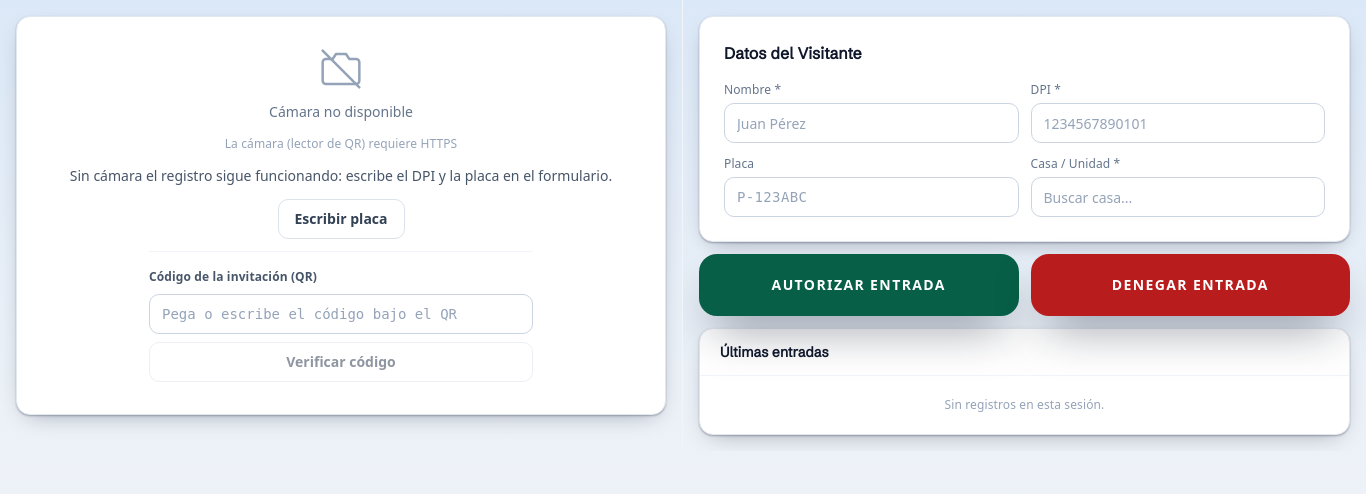
it: GaritaPage web sin cámara › un código con mal formato no llega al servidor y explica el problema
In the field labelled "Código de la invitación (QR)": (341, 314) left=149, top=294, right=533, bottom=334, type "no-es-un-codigo"
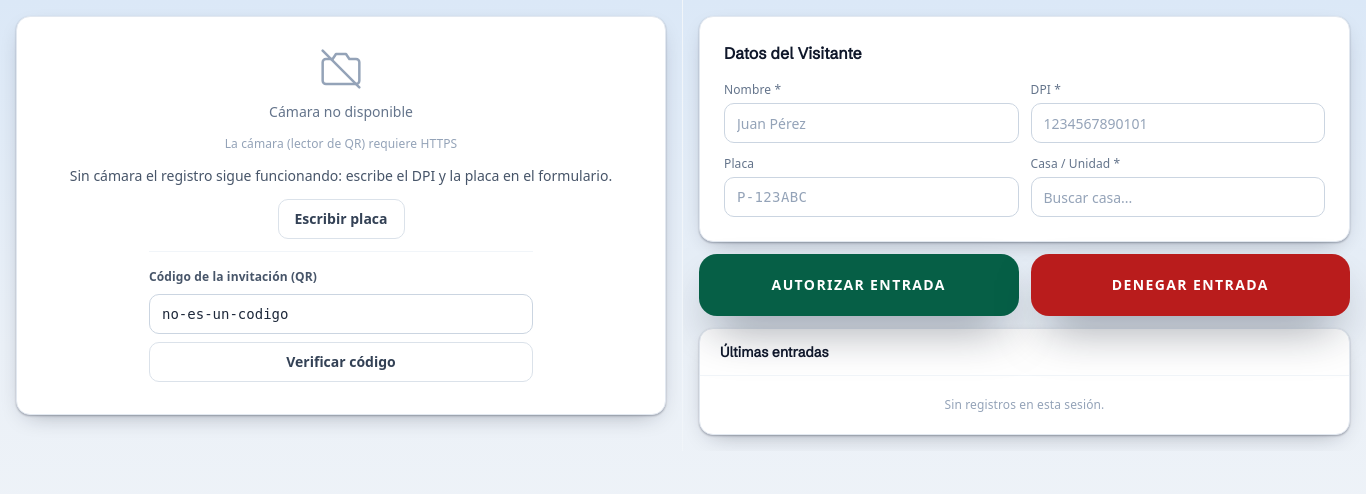
Click the button "Verificar código": click(341, 362) left=149, top=342, right=533, bottom=382
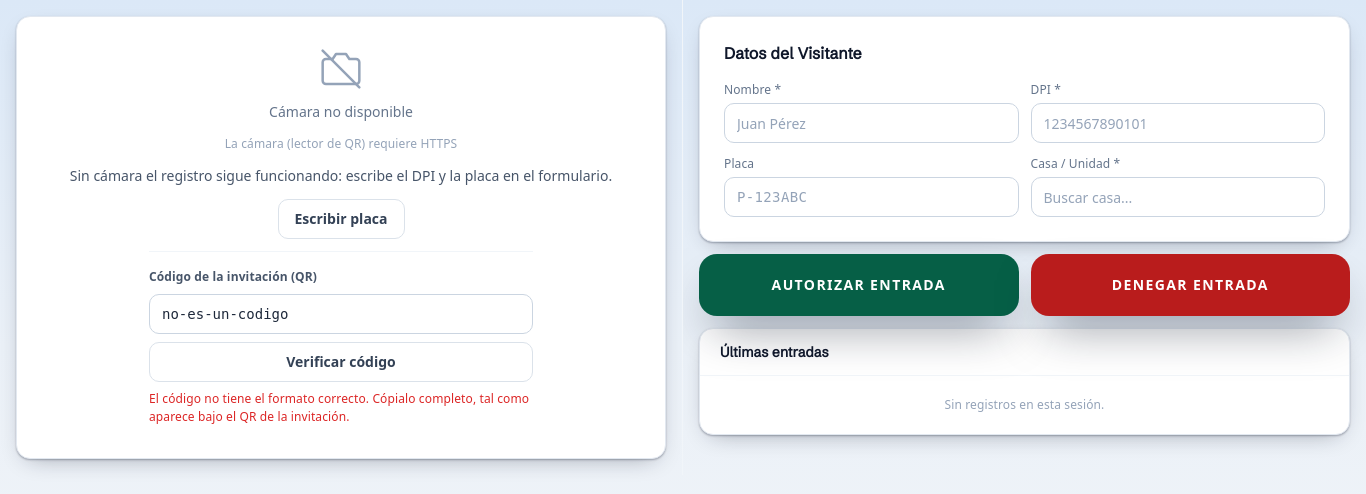
Expected: the message shows "El código no tiene el formato correcto", left=149, top=390, right=529, bottom=425
